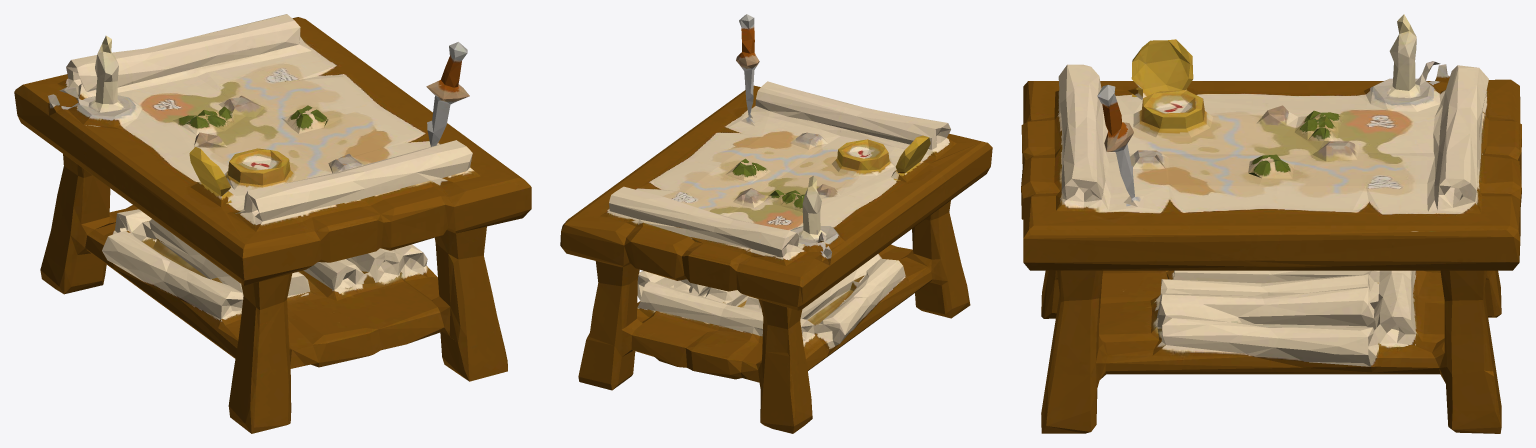
File: tut_maptable.glb
3 renders of one model, left to right at view 1: azimuth 30°, elevation 25°; view 2: azimuth 150°, elevation 25°; view 3: azimuth 270°, elevation 25°, orthographic. The views are drawn at different scales.
Parts seen in each view (by area): view 1: tut_maptable; view 2: tut_maptable; view 3: tut_maptable.
Part boxes in pixels (x1,y1,x2,y2): tut_maptable: [14, 14, 531, 433]; tut_maptable: [560, 14, 992, 433]; tut_maptable: [1021, 14, 1521, 433].
Size of the model in its own units: 1.07 by 1.1 by 1.47.
Materials: 1 (1 with a texture image).
